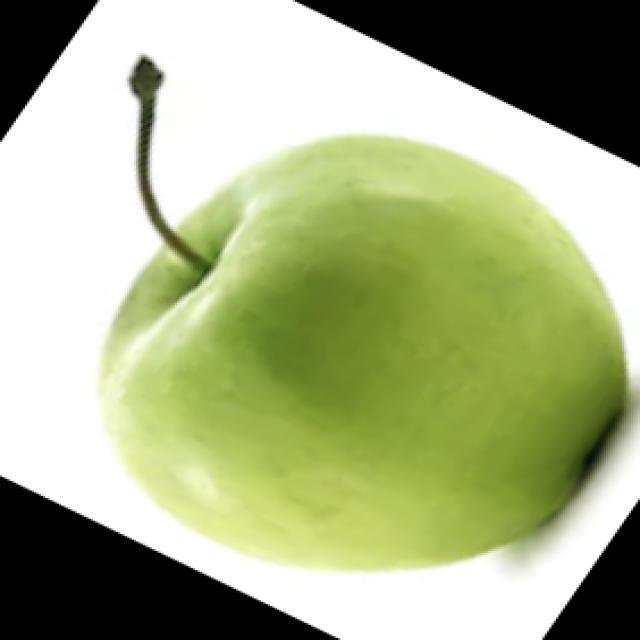Apple: (93, 131, 625, 578)
